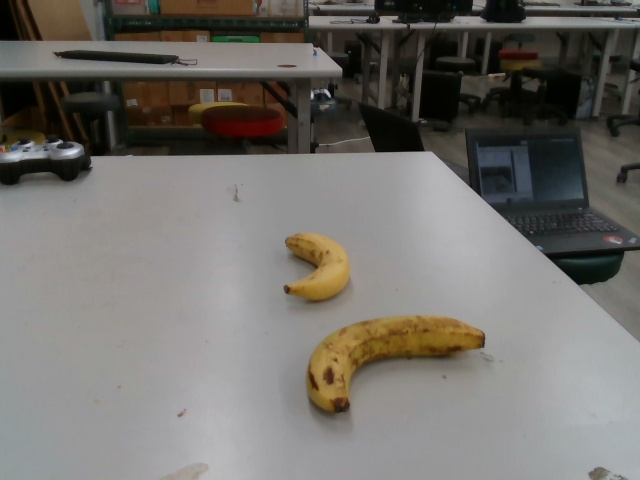banana: (304, 315, 486, 416), (281, 232, 351, 303)
